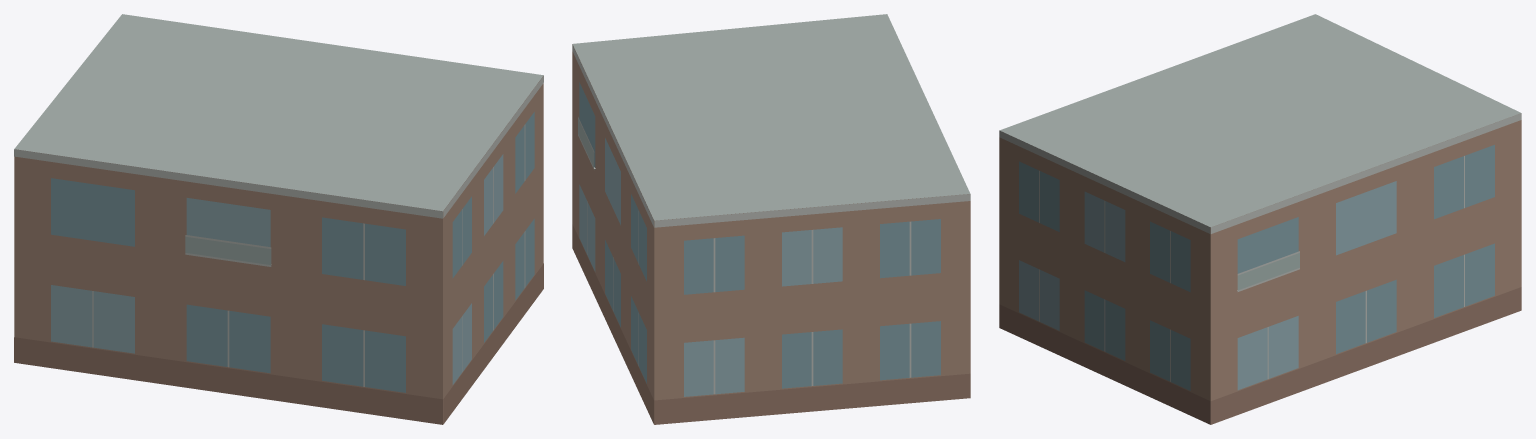
The model's file is survey-upis-32629291.glb.
The picture shows the model from 3 angles, left to right: view 1: azimuth 30°, elevation 25°; view 2: azimuth 150°, elevation 25°; view 3: azimuth 270°, elevation 25°; orthographic projection. The views are drawn at different scales.
Visible parts, largest first — view 1: survey-upis-32629291.tmp; view 2: survey-upis-32629291.tmp; view 3: survey-upis-32629291.tmp.
Part boxes in pixels (x1,y1,x2,y2): survey-upis-32629291.tmp: [14, 14, 543, 424]; survey-upis-32629291.tmp: [572, 14, 970, 424]; survey-upis-32629291.tmp: [999, 14, 1521, 424].
Bounding box in the file's own units: 16.23 × 7 × 16.78.
